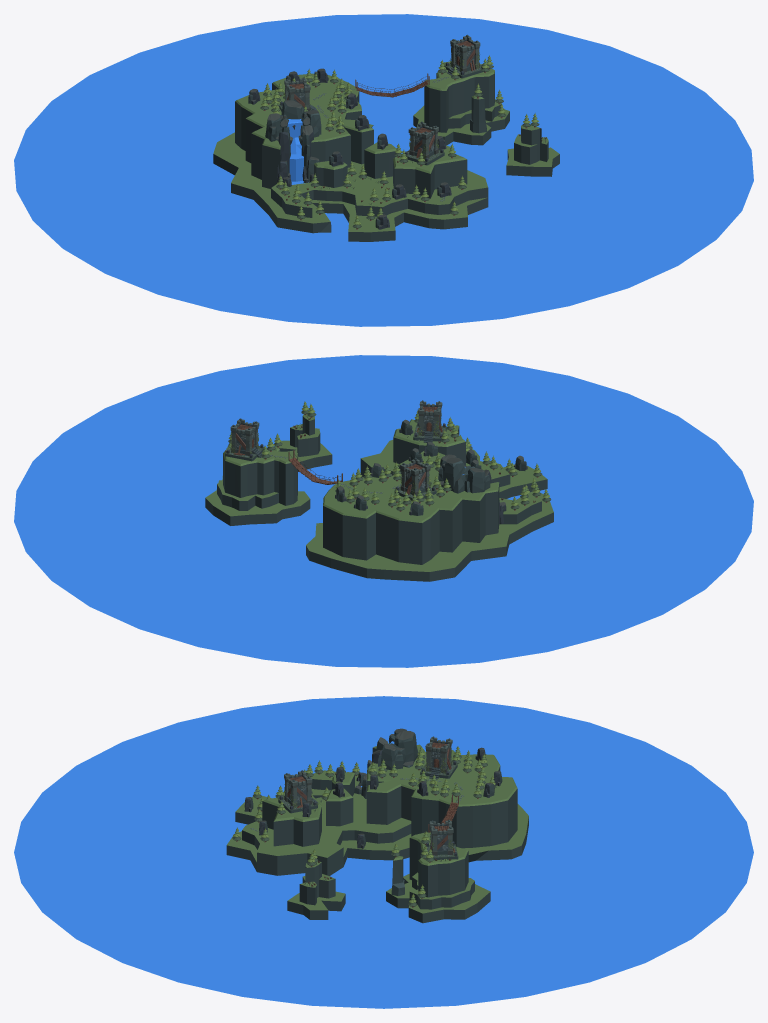
File: Castle Island.fbx
3 views of the same model, one above another, from view 1: azimuth 30°, elevation 25°; view 2: azimuth 150°, elevation 25°; view 3: azimuth 270°, elevation 25° (orthographic).
Parts seen in each view (by area): view 1: Water, Island, Castle_Tower, Castle_Tower__1_, Castle_Tower__2_, Bridge; view 2: Water, Island, Castle_Tower, Castle_Tower__2_, Castle_Tower__1_; view 3: Water, Island, Castle_Tower__2_, Castle_Tower__1_, Castle_Tower.
Part boxes in pixels (<box>): Water: <box>14,14,753,326</box>; Island: <box>213,61,559,241</box>; Castle_Tower: <box>444,34,484,78</box>; Castle_Tower__1_: <box>404,121,444,165</box>; Castle_Tower__2_: <box>279,77,317,111</box>; Bridge: <box>355,73,429,97</box>; Water: <box>14,355,753,667</box>; Island: <box>205,413,553,581</box>; Castle_Tower: <box>225,418,263,461</box>; Castle_Tower__2_: <box>394,458,436,500</box>; Castle_Tower__1_: <box>413,400,446,442</box>; Water: <box>14,696,753,1008</box>; Island: <box>226,728,528,923</box>; Castle_Tower__2_: <box>420,736,457,779</box>; Castle_Tower__1_: <box>278,770,317,813</box>; Castle_Tower: <box>425,819,458,860</box>.
Bounding box in the file's own units: 16475 × 2199 × 16475.
2 materials, 1 textured.
